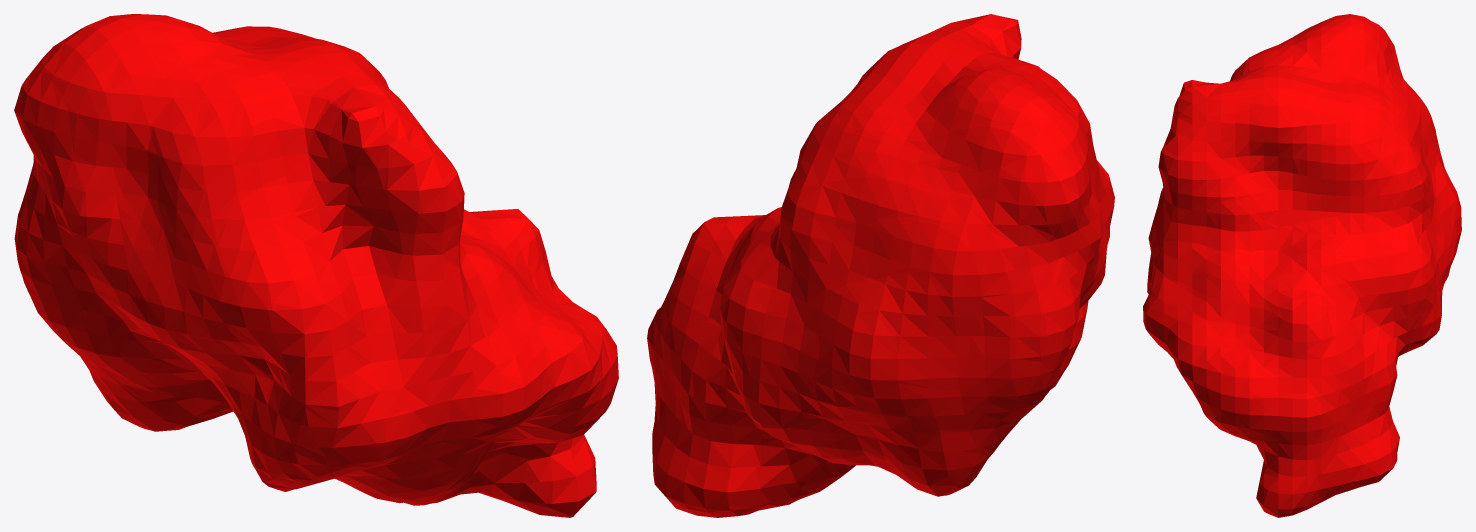
File: nusB_coarse.dae
The picture shows the model from 3 angles, left to right: view 1: azimuth 30°, elevation 25°; view 2: azimuth 150°, elevation 25°; view 3: azimuth 270°, elevation 25°; orthographic projection. The views are drawn at different scales.
Visible parts, largest first — view 1: nusB; view 2: nusB; view 3: nusB.
Boxes of the visible parts, x1,y1,x2,y2 form: nusB: [14, 14, 618, 517]; nusB: [647, 14, 1114, 517]; nusB: [1143, 14, 1461, 517].
Bounding box in the file's own units: 53.73 × 55.31 × 43.01.
